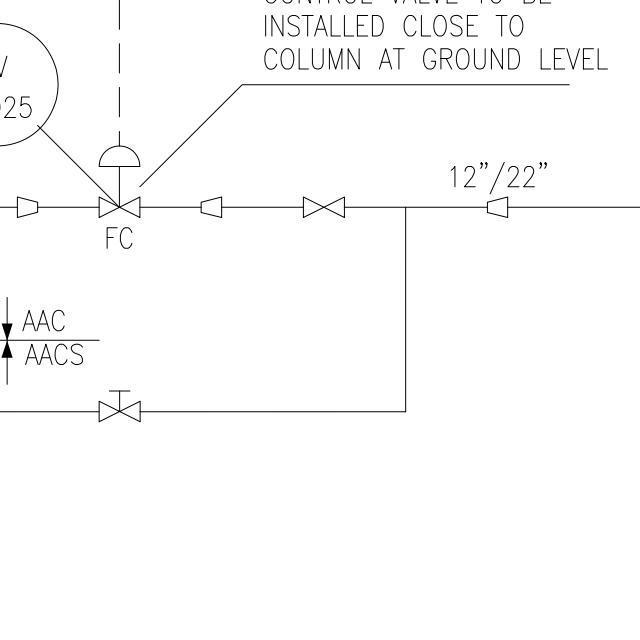FC: (94, 141, 145, 223)
GV: (296, 190, 350, 218)
HV: (96, 386, 146, 427)
SP: (12, 193, 45, 219), (198, 193, 225, 223), (486, 193, 513, 220)
